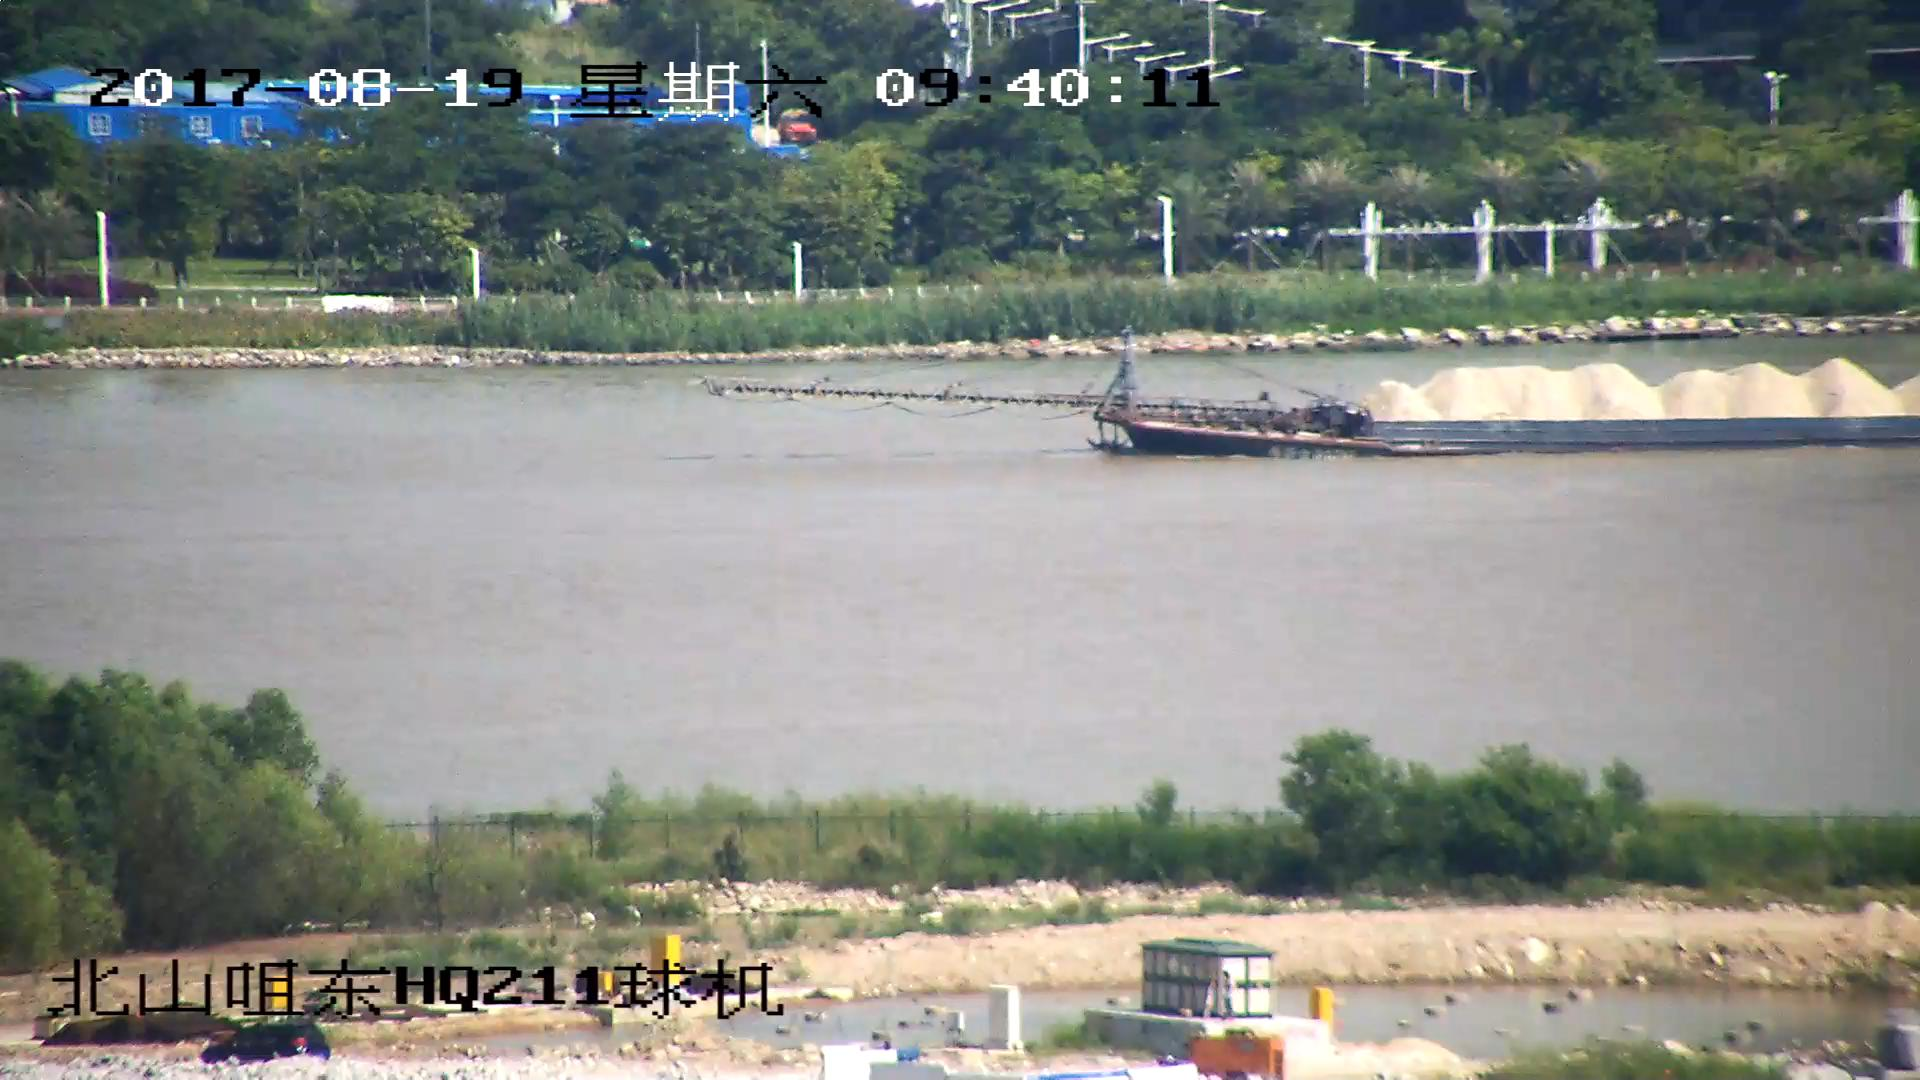ore carrier: (707, 333, 1920, 456)
